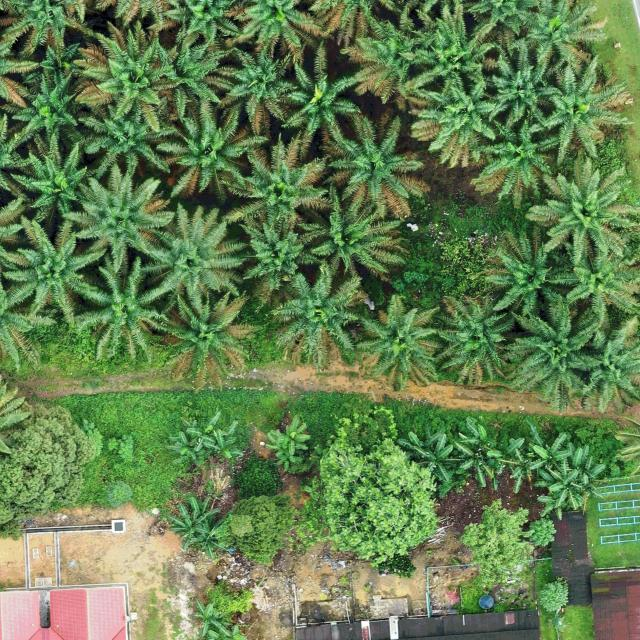Tree: (317, 436, 438, 558), (0, 401, 103, 541), (525, 159, 640, 280), (71, 15, 179, 135), (318, 112, 432, 221), (68, 255, 170, 369), (536, 49, 634, 166), (138, 200, 249, 300), (267, 260, 366, 372), (0, 214, 104, 320), (227, 127, 334, 229), (148, 288, 255, 389), (72, 167, 175, 270), (502, 300, 600, 408), (303, 187, 412, 282), (72, 91, 179, 187), (164, 105, 270, 198), (14, 134, 111, 233), (397, 3, 501, 91), (482, 222, 576, 316), (337, 5, 423, 106), (406, 73, 497, 167), (474, 116, 564, 210), (350, 293, 442, 384), (215, 41, 298, 137), (277, 38, 358, 136), (436, 292, 520, 384), (240, 210, 326, 293), (572, 313, 640, 416), (460, 497, 534, 588), (0, 264, 59, 374), (213, 492, 297, 568), (563, 233, 640, 314), (153, 37, 229, 119), (486, 39, 556, 128), (5, 68, 80, 148), (522, 0, 606, 69), (160, 492, 234, 564), (0, 0, 41, 125), (0, 0, 85, 59), (232, 0, 325, 52), (164, 409, 244, 469), (160, 0, 246, 49), (0, 370, 34, 488), (0, 178, 33, 282), (453, 415, 498, 491), (395, 425, 454, 482), (535, 456, 585, 519), (465, 0, 538, 40), (264, 415, 312, 473), (0, 108, 32, 191), (564, 441, 606, 501), (529, 433, 572, 471), (42, 38, 87, 74), (486, 436, 526, 476), (192, 599, 222, 637), (208, 623, 255, 640)
